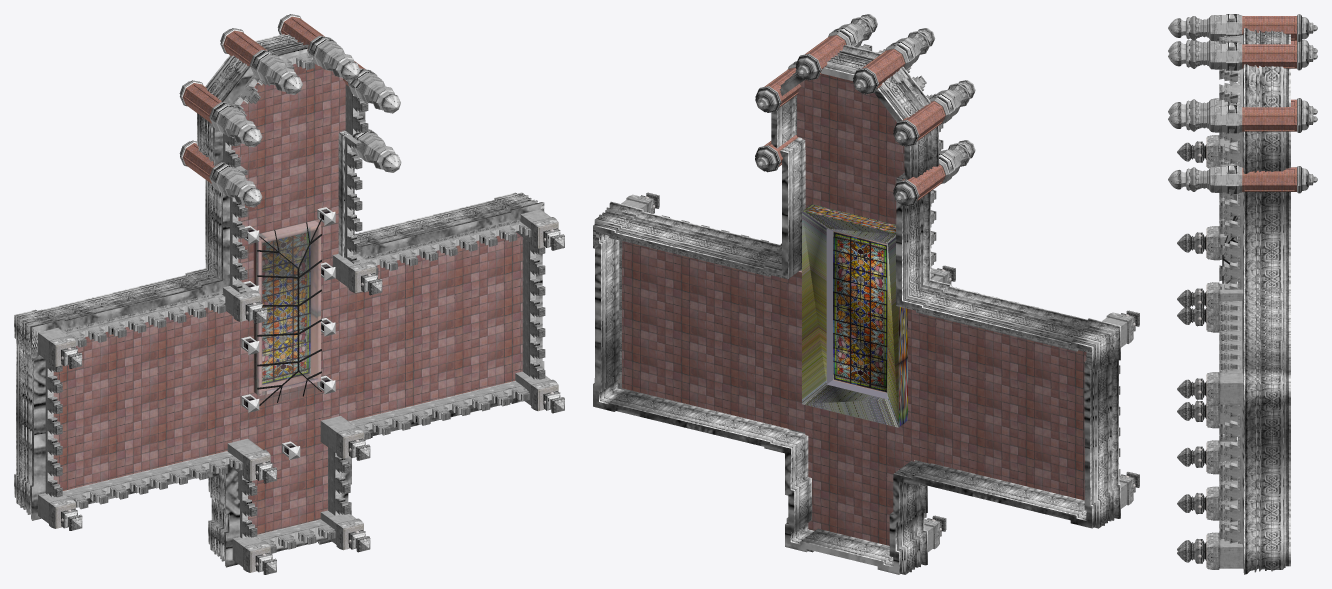
File: castelo_mourisco_piso5.fbx
3 renders of one model, left to right at view 1: azimuth 30°, elevation 25°; view 2: azimuth 150°, elevation 25°; view 3: azimuth 270°, elevation 25°, orthographic.
Visible parts, largest first — view 1: Teto, Acabamento Piso 5, Amurada arvore.001, Amurada pilares.001, telhado_vitral, vitral_teto_piso4, Detalhe Torre Oeste 4, Detalhe Torre Oeste 3, Detalhe Torre Oeste 2, Detalhe Torre Oeste 6, Detalhe Torre Oeste 1, Detalhe Torre Oeste 5; view 2: Teto, Acabamento Piso 5, vitral_teto_piso4, Amurada pilares.001, Detalhe Torre Oeste 4, Detalhe Torre Oeste 3, Detalhe Torre Oeste 2, Detalhe Torre Oeste 6, Amurada arvore.001, Detalhe Torre Oeste 1, Detalhe Torre Oeste 5; view 3: Acabamento Piso 5, Amurada pilares.001, Amurada arvore.001, Detalhe Torre Oeste 1, Detalhe Torre Oeste 2, Detalhe Torre Oeste 5, Detalhe Torre Oeste 3, Detalhe Torre Oeste 6, Detalhe Torre Oeste 4, telhado_vitral.
Part boxes in pixels (x1,y1,x2,y2): Teto: [53, 63, 522, 534]; Acabamento Piso 5: [14, 34, 544, 567]; Amurada arvore.001: [45, 52, 545, 553]; Amurada pilares.001: [38, 209, 564, 574]; telhado_vitral: [257, 219, 321, 406]; vitral_teto_piso4: [253, 220, 320, 395]; Detalhe Torre Oeste 4: [179, 80, 262, 147]; Detalhe Torre Oeste 3: [220, 28, 302, 94]; Detalhe Torre Oeste 2: [277, 14, 360, 80]; Detalhe Torre Oeste 6: [179, 140, 262, 207]; Detalhe Torre Oeste 1: [343, 61, 400, 113]; Detalhe Torre Oeste 5: [351, 129, 401, 172]; Teto: [622, 74, 1086, 545]; Acabamento Piso 5: [593, 45, 1120, 574]; vitral_teto_piso4: [802, 204, 907, 427]; Amurada pilares.001: [617, 192, 1139, 551]; Detalhe Torre Oeste 4: [893, 80, 975, 146]; Detalhe Torre Oeste 3: [853, 28, 935, 94]; Detalhe Torre Oeste 2: [795, 14, 877, 80]; Detalhe Torre Oeste 6: [893, 140, 975, 206]; Amurada arvore.001: [617, 44, 1120, 517]; Detalhe Torre Oeste 1: [755, 61, 800, 112]; Detalhe Torre Oeste 5: [755, 135, 798, 172]; Acabamento Piso 5: [1242, 28, 1290, 574]; Amurada pilares.001: [1177, 135, 1243, 569]; Amurada arvore.001: [1219, 35, 1243, 543]; Detalhe Torre Oeste 1: [1168, 105, 1317, 133]; Detalhe Torre Oeste 2: [1168, 42, 1317, 70]; Detalhe Torre Oeste 5: [1168, 165, 1317, 193]; Detalhe Torre Oeste 3: [1168, 14, 1317, 41]; Detalhe Torre Oeste 6: [1168, 98, 1317, 114]; Detalhe Torre Oeste 4: [1168, 40, 1317, 53]; telhado_vitral: [1222, 215, 1237, 350].
Bounding box in the file's own units: 3021 × 2878 × 758.
14 materials, 12 textured.
